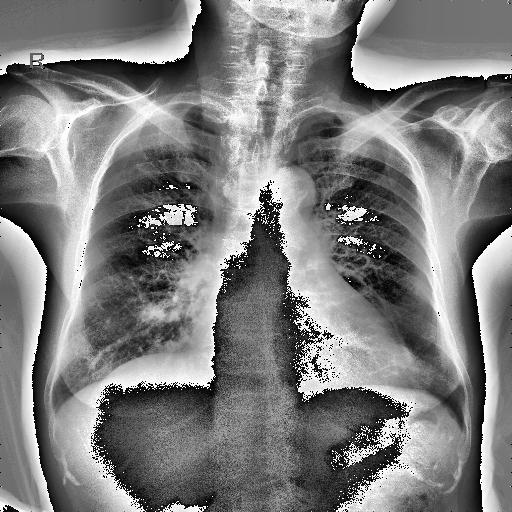0- Aortic enlargement: (261, 168, 317, 216)
11- Pleural thickening: (343, 113, 388, 137)
3- Cardiomegaly: (190, 308, 415, 382), (190, 315, 416, 387), (190, 326, 414, 386)
